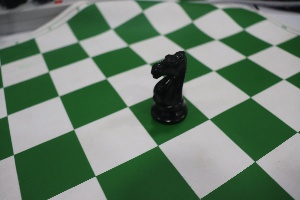black_horse: (140, 40, 197, 134)
